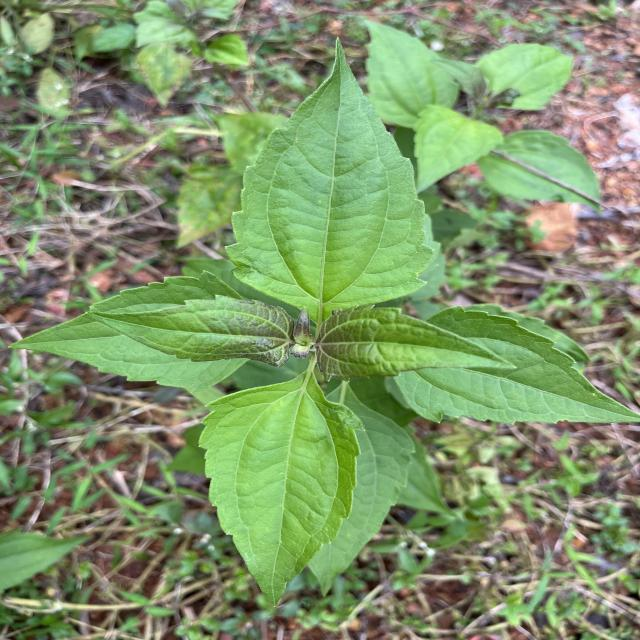Chromolaena odorata: (221, 33, 438, 324), (194, 368, 368, 610), (392, 302, 640, 428), (82, 292, 297, 371)
